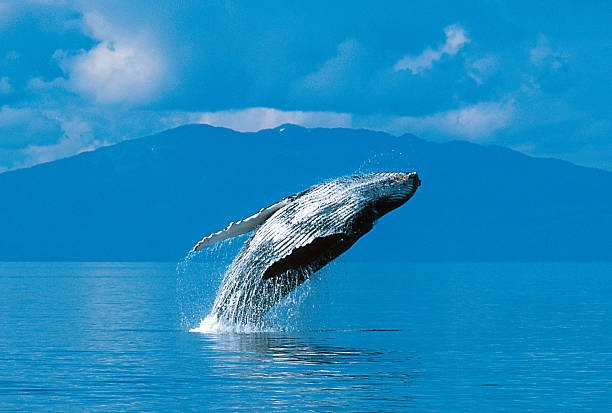humpback: (209, 172, 422, 316)
